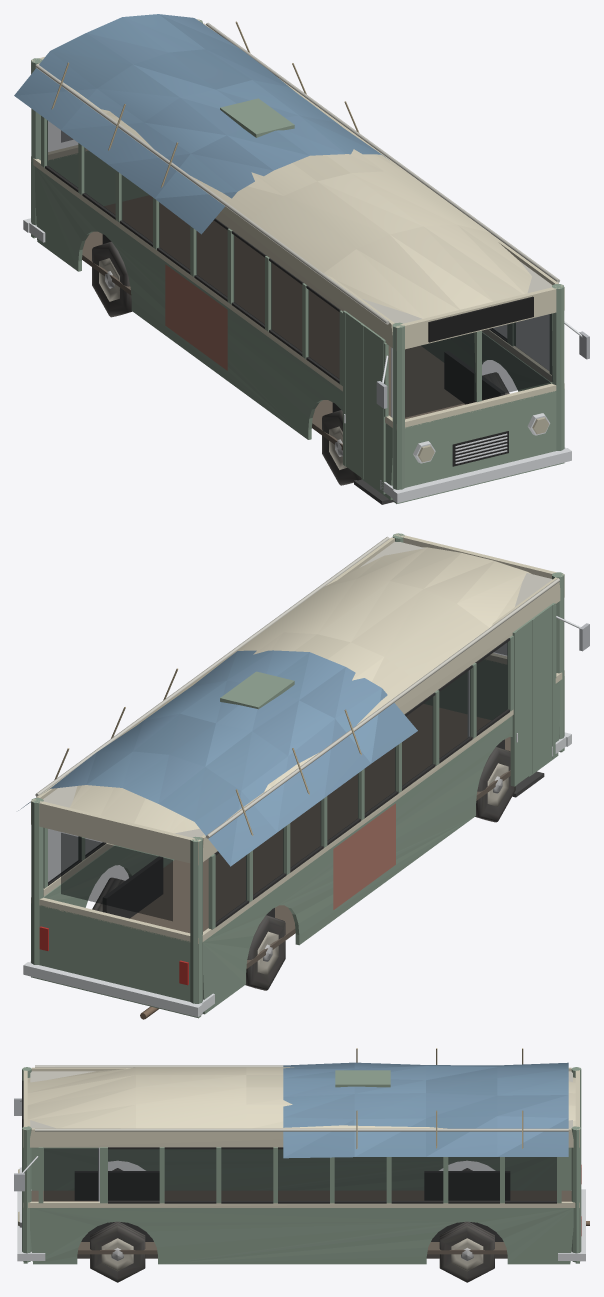
File: festival_bus_garage_lod2.glb
The picture shows the model from 3 angles, top to bottom: view 1: azimuth 30°, elevation 25°; view 2: azimuth 150°, elevation 25°; view 3: azimuth 270°, elevation 25°; orthographic projection. The views are drawn at different scales.
Parts seen in each view (by area): view 1: body, door, destination_board, wheel_rr, wheel_fr; view 2: body, door, wheel_rr, wheel_fr; view 3: body, wheel_fl, wheel_rl.
Boxes of the visible parts, x1=… form: body: x1=14, y1=14, x2=589, y2=504; door: x1=343, y1=310, x2=385, y2=494; destination_board: x1=428, y1=296, x2=533, y2=342; wheel_rr: x1=92, y1=241, x2=132, y2=317; wheel_fr: x1=322, y1=410, x2=361, y2=485; body: x1=18, y1=533, x2=589, y2=1019; door: x1=510, y1=603, x2=555, y2=786; wheel_rr: x1=245, y1=915, x2=285, y2=990; wheel_fr: x1=475, y1=747, x2=515, y2=822; body: x1=14, y1=1048, x2=589, y2=1264; wheel_fl: x1=90, y1=1221, x2=145, y2=1282; wheel_rl: x1=439, y1=1221, x2=494, y2=1282.
Size of what is drawn, in the model's own units: 3.1 by 3.18 by 9.39.
